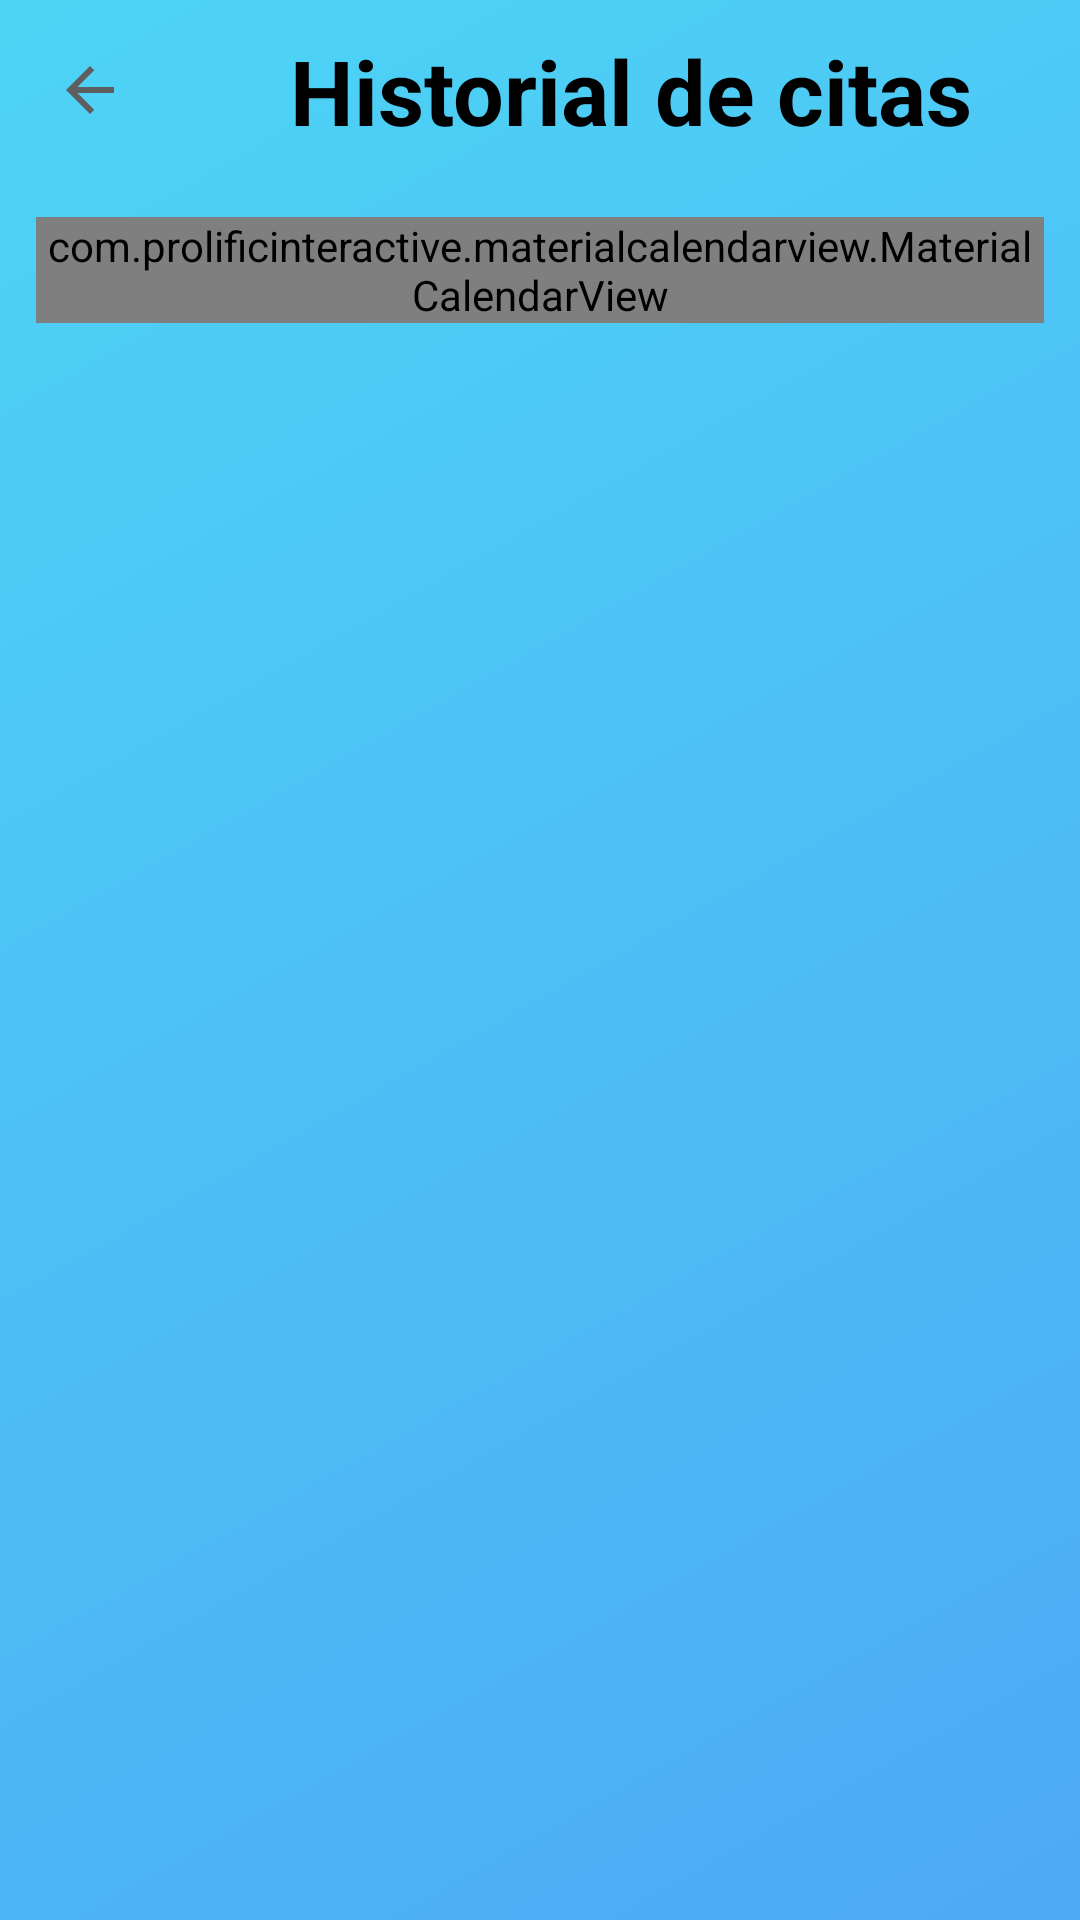

Named icons in this screenshot (1080x1920) and their bounding boxes, (x1, y1, x2, y2):
back: (66, 66, 114, 114)
